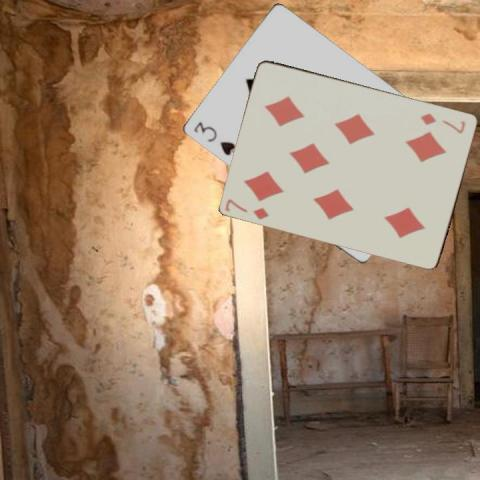3s: (190, 119, 237, 157)
7d: (222, 195, 271, 221), (418, 110, 468, 135)
